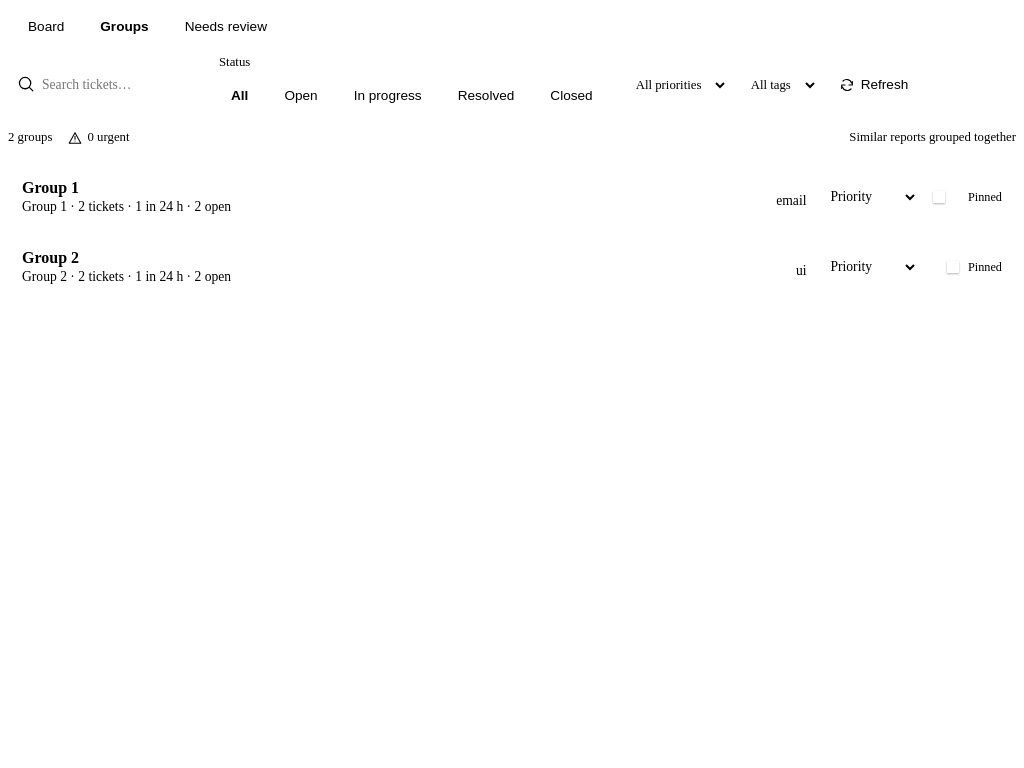
Test case: TicketsPanel › shows the confirmed reply even when the subsequent detail GET would fail
Click the button with class "expand" that starts with "Group 1": x=51, y=188 [22,179,752,215]
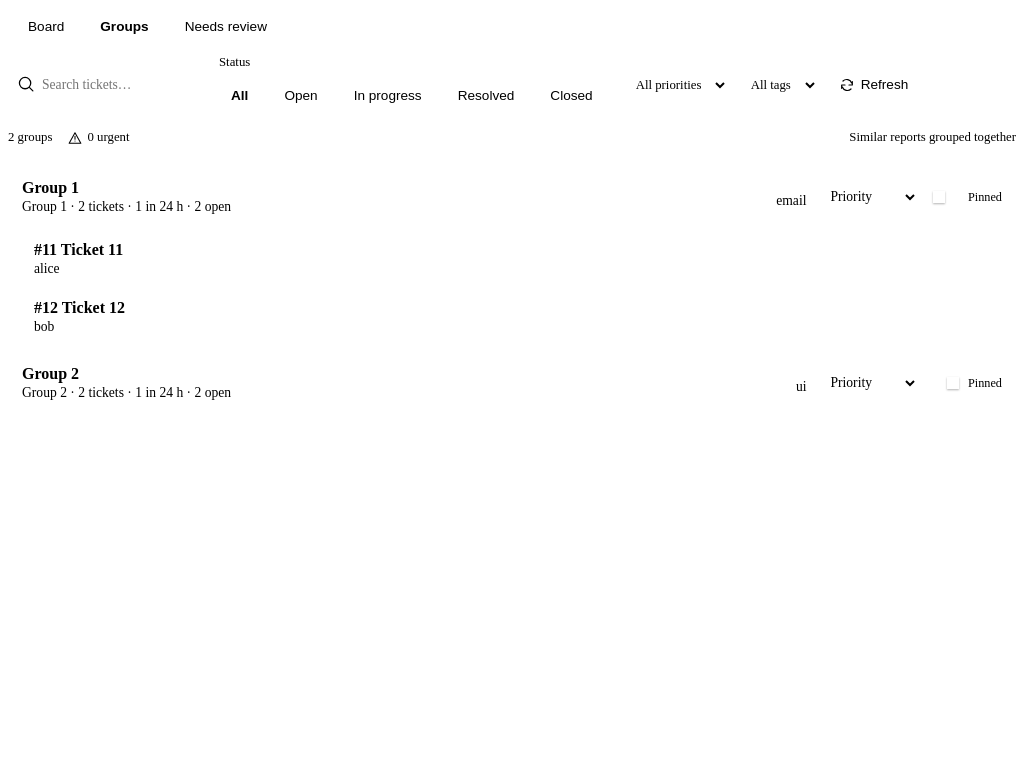
Click the button with class "ticket-link" showing "#11 Ticket 11 alice": x=79, y=250 [22,233,1016,285]
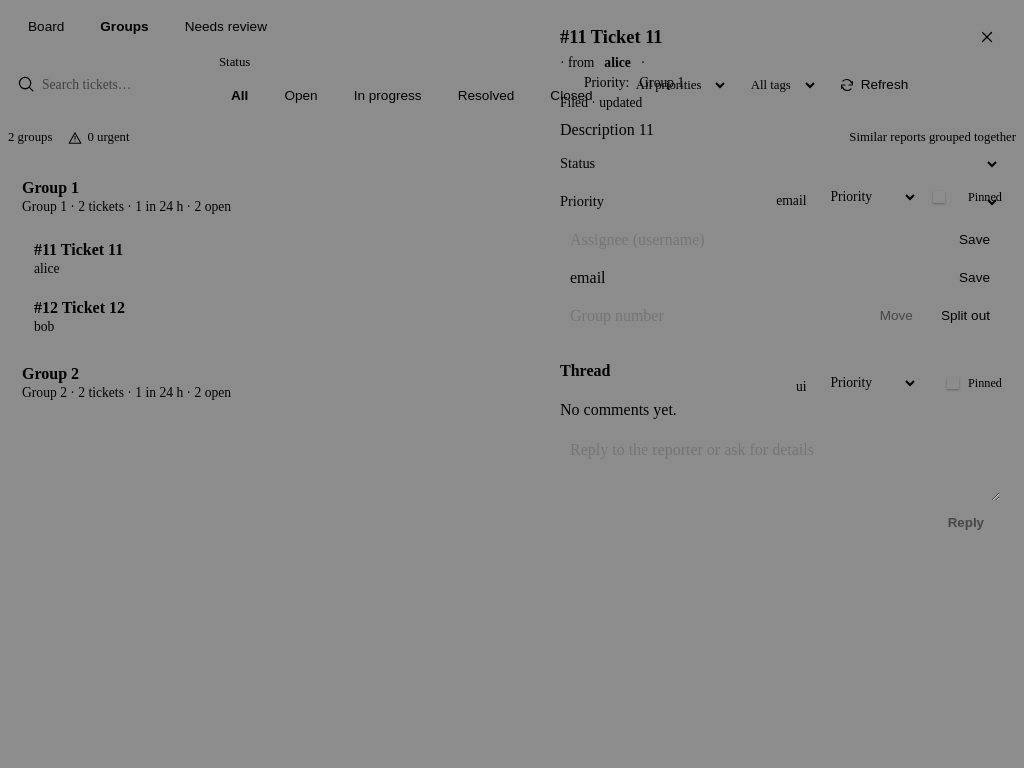
In the text box named "Reply": x=780, y=468 [560,435,1000,501], type "Confirmed reply"
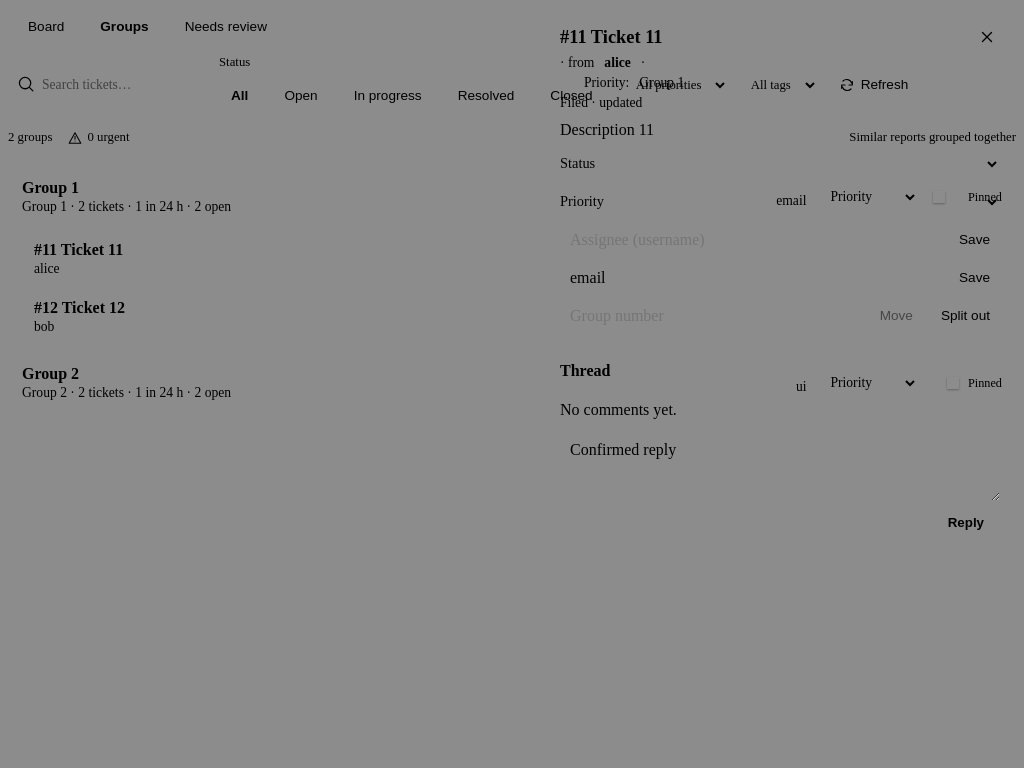
Click the button with class "send-reply": x=966, y=523 [932,509,1000,536]
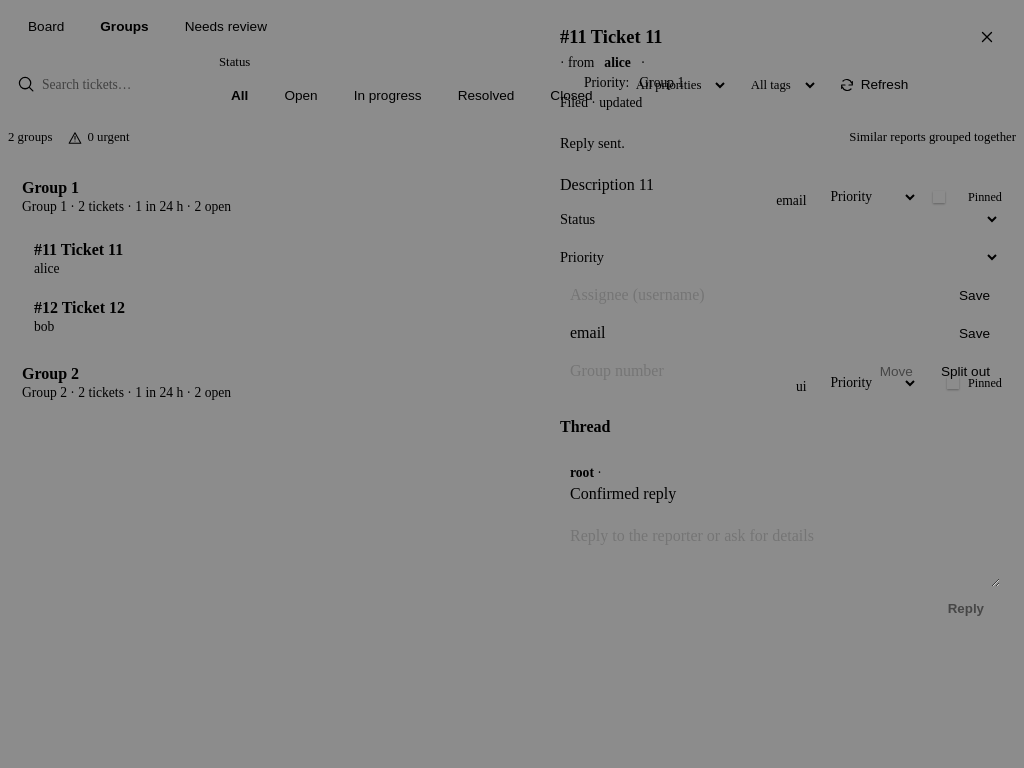
Expected: the list with class "thread" shows "Confirmed reply", [570,485,676,502]
Expected: the text box named "Reply" is empty, [560,521,1000,587]
